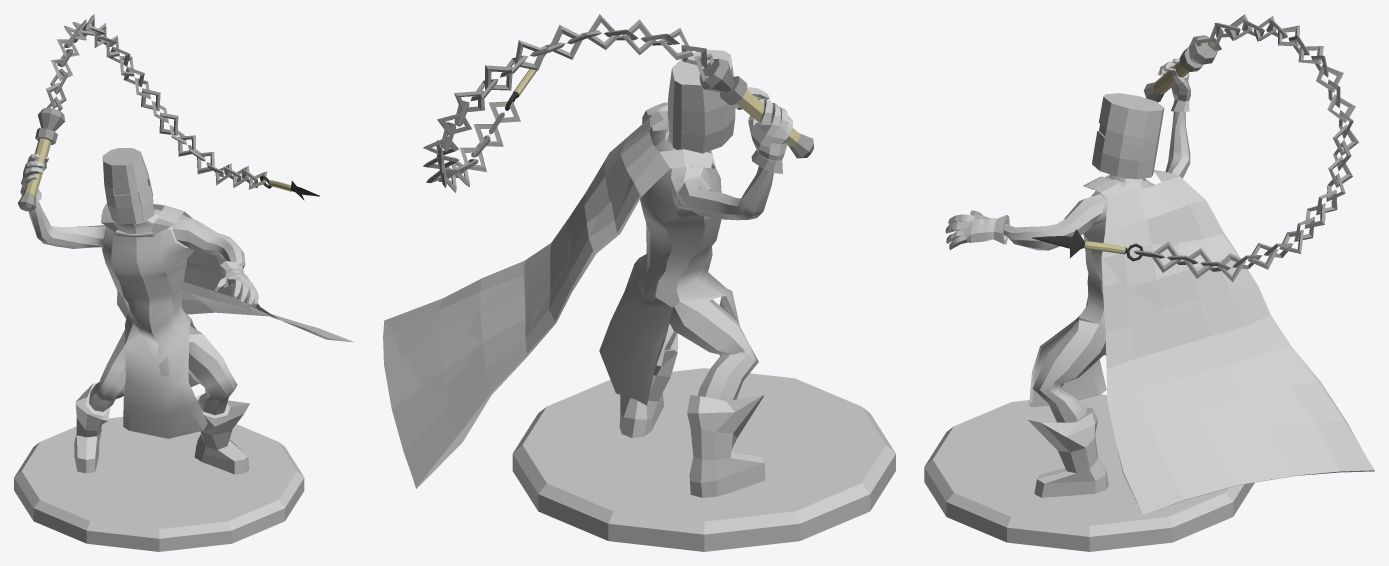
Rendered from Templar_Hook.fbx.
The picture shows the model from 3 angles, left to right: view 1: azimuth 30°, elevation 25°; view 2: azimuth 150°, elevation 25°; view 3: azimuth 270°, elevation 25°; orthographic projection. The views are drawn at different scales.
Visible parts, largest first — view 1: Templar_Hook, pasted__polySurface28, pasted__pasted__pasted__pasted__pasted__pCube3, polySurface56; view 2: pasted__polySurface28, Templar_Hook, polySurface56, pasted__pasted__pasted__pasted__pasted__pCube3; view 3: polySurface56, pasted__polySurface28, Templar_Hook, pasted__pasted__pasted__pasted__pasted__pCube3.
Boxes of the visible parts, x1=… form: Templar_Hook: x1=20, y1=148, x2=258, y2=474; pasted__polySurface28: x1=14, y1=417, x2=304, y2=551; pasted__pasted__pasted__pasted__pasted__pCube3: x1=17, y1=14, x2=319, y2=211; polySurface56: x1=101, y1=203, x2=354, y2=342; pasted__polySurface28: x1=512, y1=368, x2=895, y2=551; Templar_Hook: x1=599, y1=49, x2=792, y2=497; polySurface56: x1=383, y1=111, x2=713, y2=488; pasted__pasted__pasted__pasted__pasted__pCube3: x1=423, y1=14, x2=813, y2=192; polySurface56: x1=1083, y1=170, x2=1374, y2=514; pasted__polySurface28: x1=924, y1=394, x2=1254, y2=551; Templar_Hook: x1=945, y1=58, x2=1190, y2=497; pasted__pasted__pasted__pasted__pasted__pCube3: x1=1032, y1=14, x2=1358, y2=281.
Size of the model in its own units: 274 by 308 by 272.
